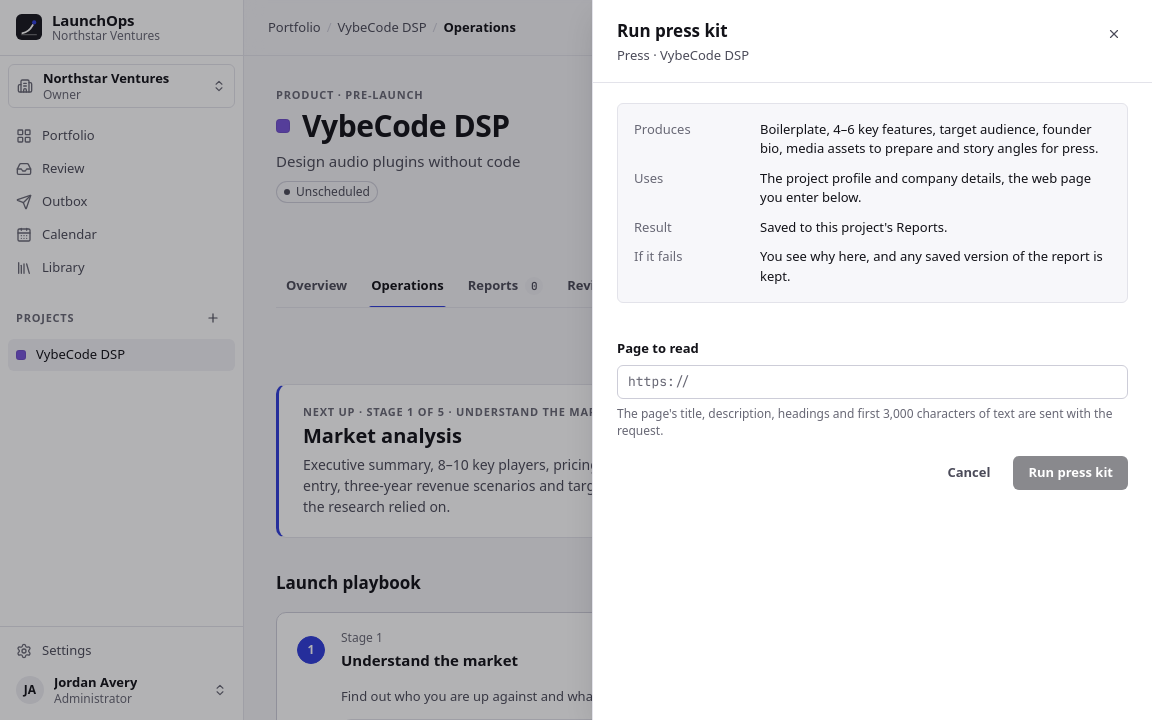
it: Running a report › checks the page address before reading it for a press kit
Expected: the button "Run press kit" is disabled, [1013,456,1128,490]
Type "dsp.vybecod.example" into the field labelled "Page to read" at point(872, 382), box [617,365,1128,399]
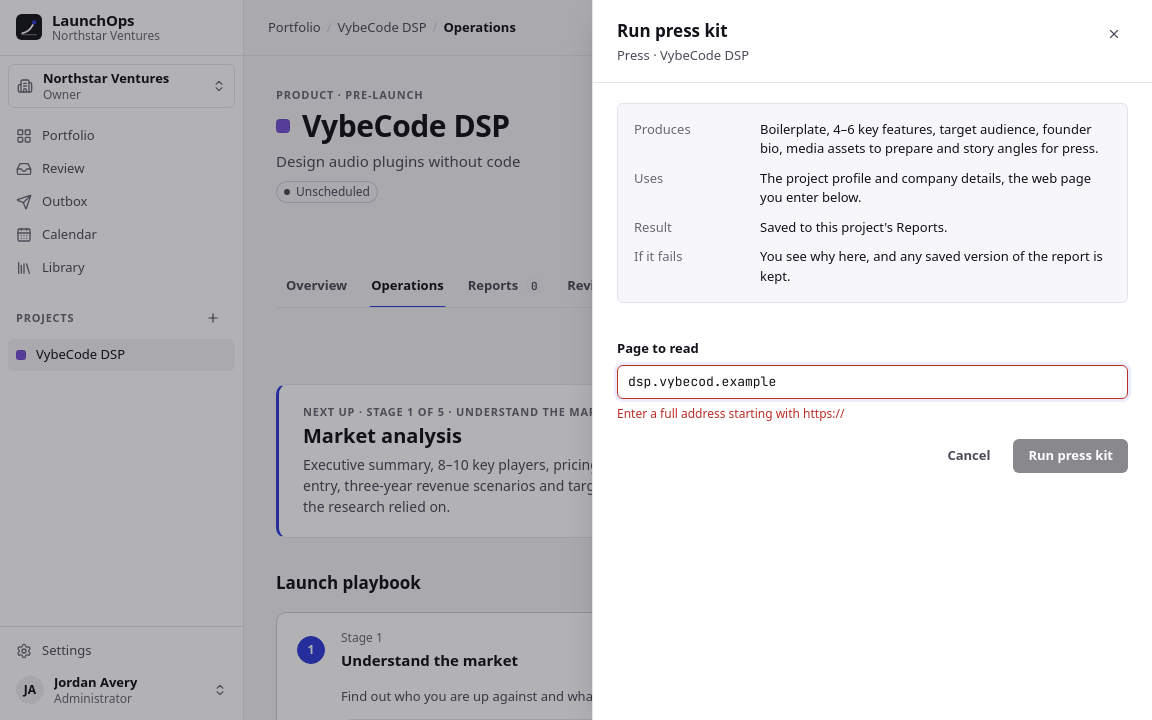
Expected: the button "Run press kit" is disabled, [1013,439,1128,473]
Replace the text in the field labelled "Page to read" with "https://dsp.vybecod.example/launch" at point(872, 382), box [617,365,1128,399]
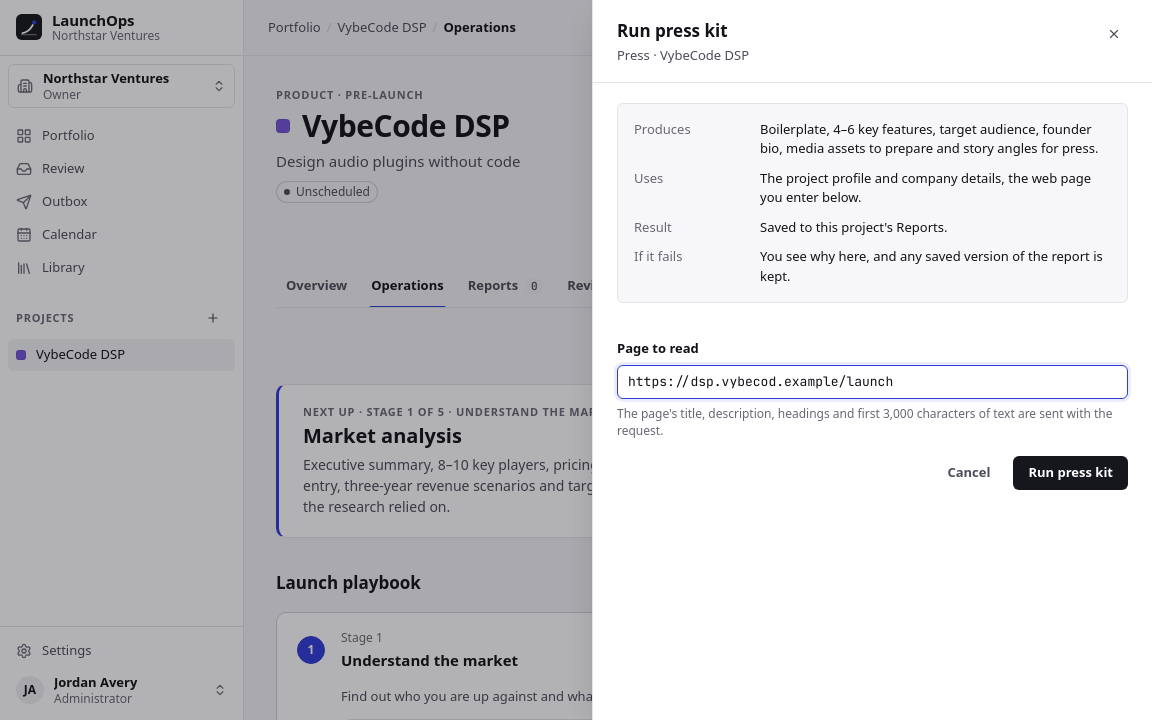
Now the button "Run press kit" is enabled
Click the button "Run press kit" at point(1071, 473), box [1013,456,1128,490]
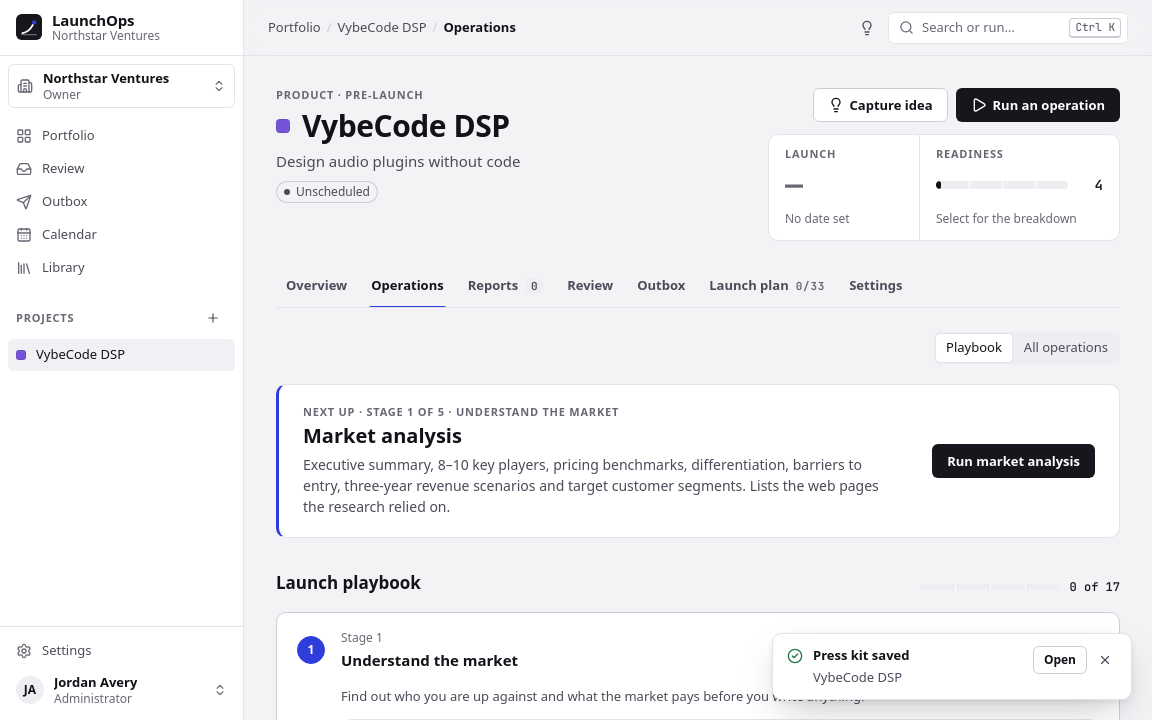
Now the text "Press kit saved" is shown, box [813,646,910,664]
